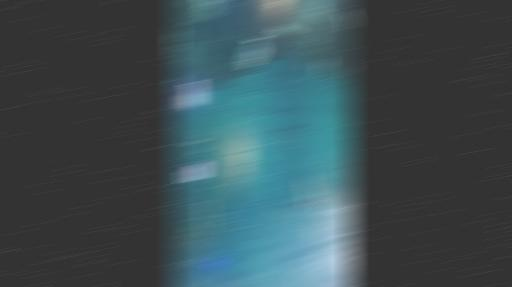Fish: (242, 36, 265, 67), (301, 173, 318, 204), (339, 248, 354, 277), (308, 219, 323, 244), (319, 187, 331, 208), (273, 266, 287, 283), (274, 25, 299, 34), (284, 257, 294, 274), (343, 12, 353, 29), (283, 130, 294, 145), (291, 274, 304, 286), (173, 76, 183, 90), (270, 133, 282, 144), (231, 2, 244, 11), (331, 277, 344, 286), (269, 144, 280, 154), (347, 60, 354, 75), (243, 124, 258, 131), (321, 58, 328, 73), (253, 107, 266, 114), (253, 132, 263, 141), (262, 126, 272, 135), (262, 251, 273, 258), (249, 240, 260, 247), (249, 131, 258, 139), (262, 234, 272, 241), (257, 237, 267, 244), (296, 231, 305, 238), (283, 127, 302, 130), (285, 203, 311, 205), (262, 250, 269, 257), (267, 234, 274, 241), (249, 120, 261, 124), (256, 103, 268, 106), (250, 144, 257, 149)
